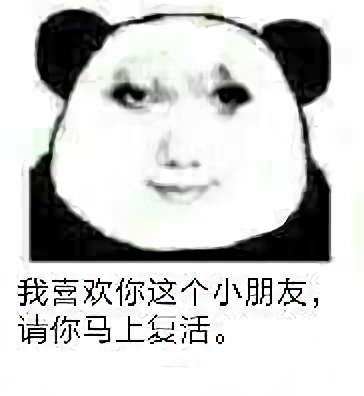dragon: (102, 63, 266, 209)
